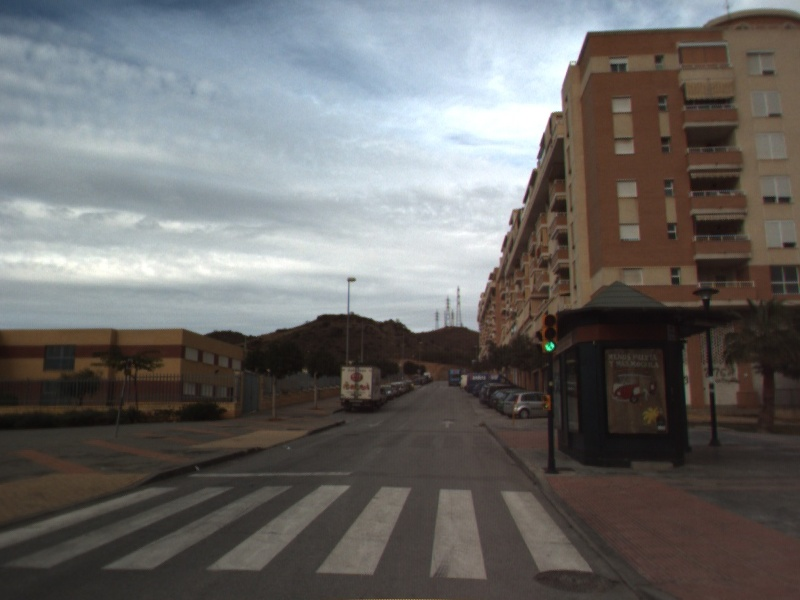STRAIGHT: (440, 418, 457, 429)
